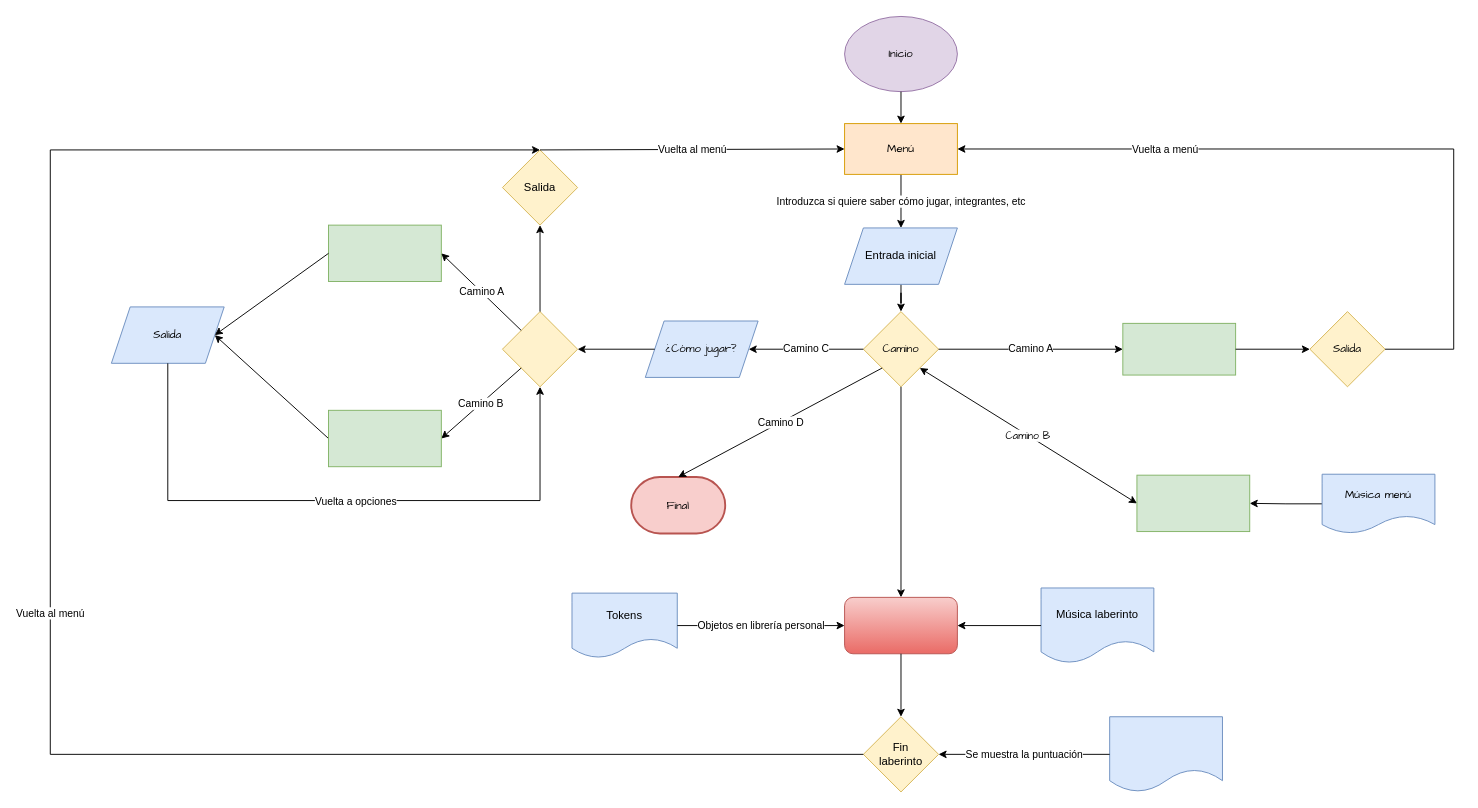
The diagram is 1478 pixels wide and 808 high, and some of its shapes have lost their labels. Each missing label, with the centre of its shape:
"Controles" goes at (384,438).
"Integrantes" goes at (1179,348).
"Laberinto" goes at (900,625).
"Música On/Off" goes at (1193,503).
"Opciones" goes at (539,349).
"Puntuación" goes at (1165,754).
"Tutorial(Explicación)" goes at (384,253).
